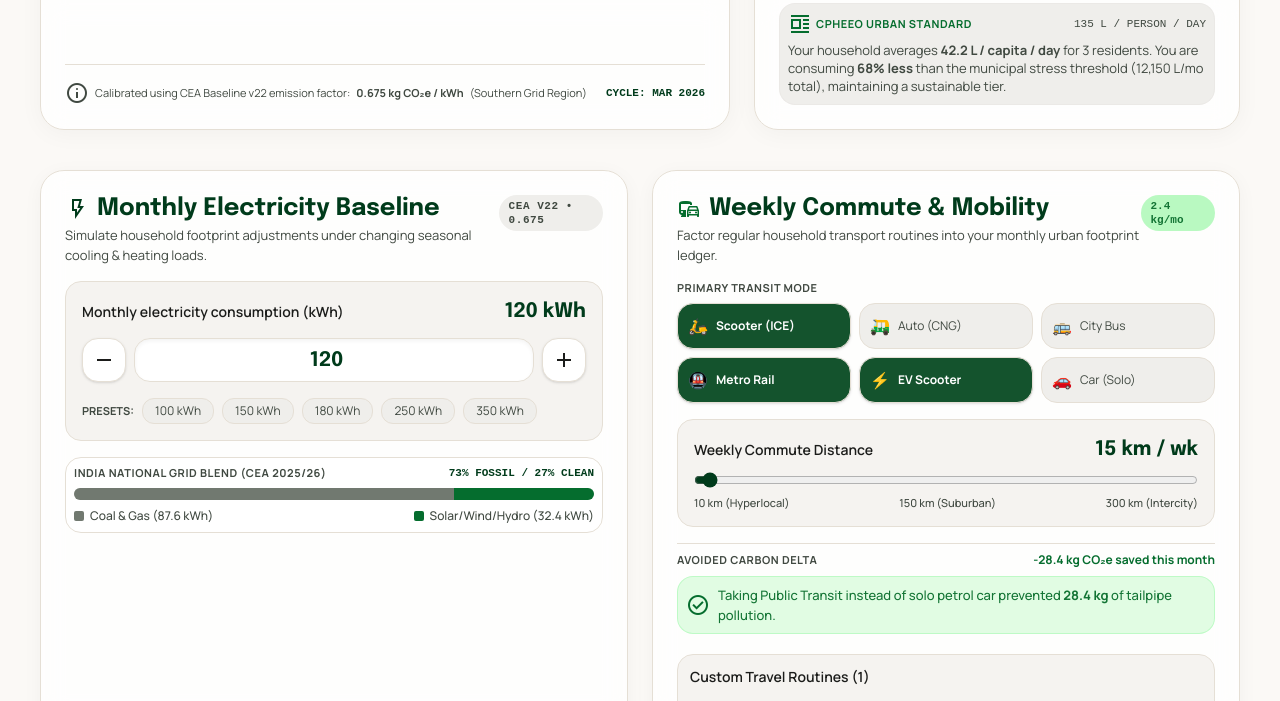
Scenario: FootprintScreen Component & Accessibility › shows accessible error message on invalid input
This screenshot has width=1280, height=701.
(page scrolled)
Replace the text in the number field labelled "Monthly electricity consumption (kWh)" with "-50" at (334, 360), box [134,338,534,382]
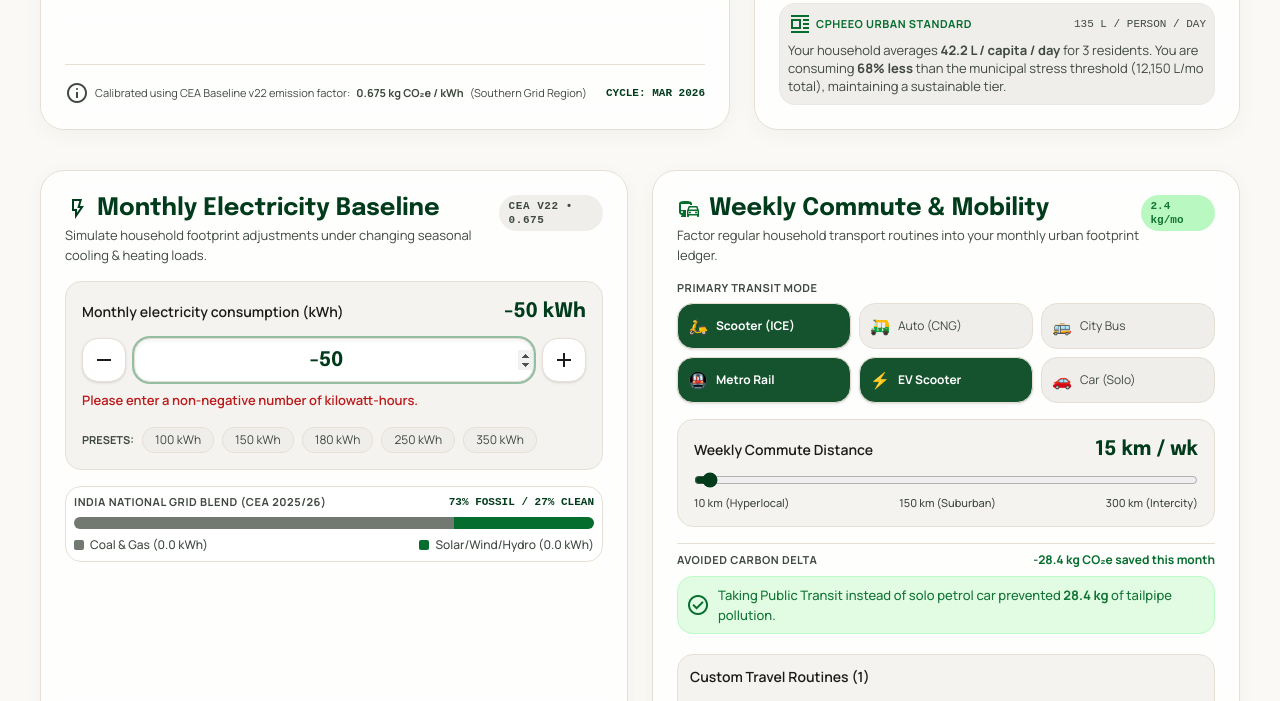
Check: the message shows "non-negative number", box [82,391,418,409]
